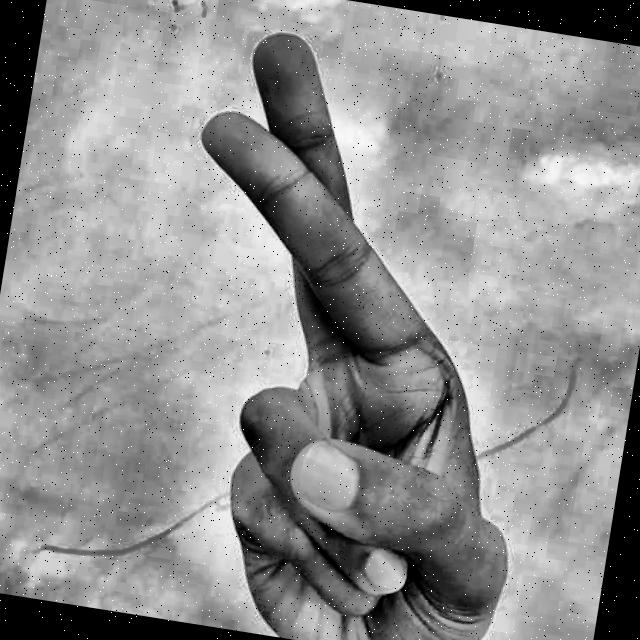Ra: (74, 0, 597, 640)
